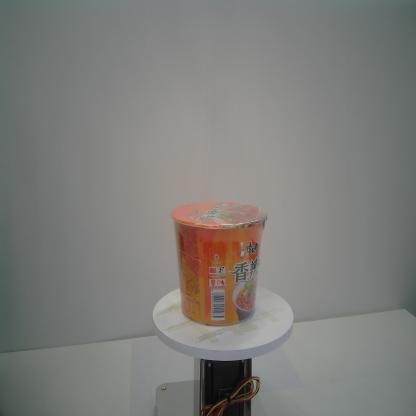Instant Noodles: (170, 200, 266, 328)
